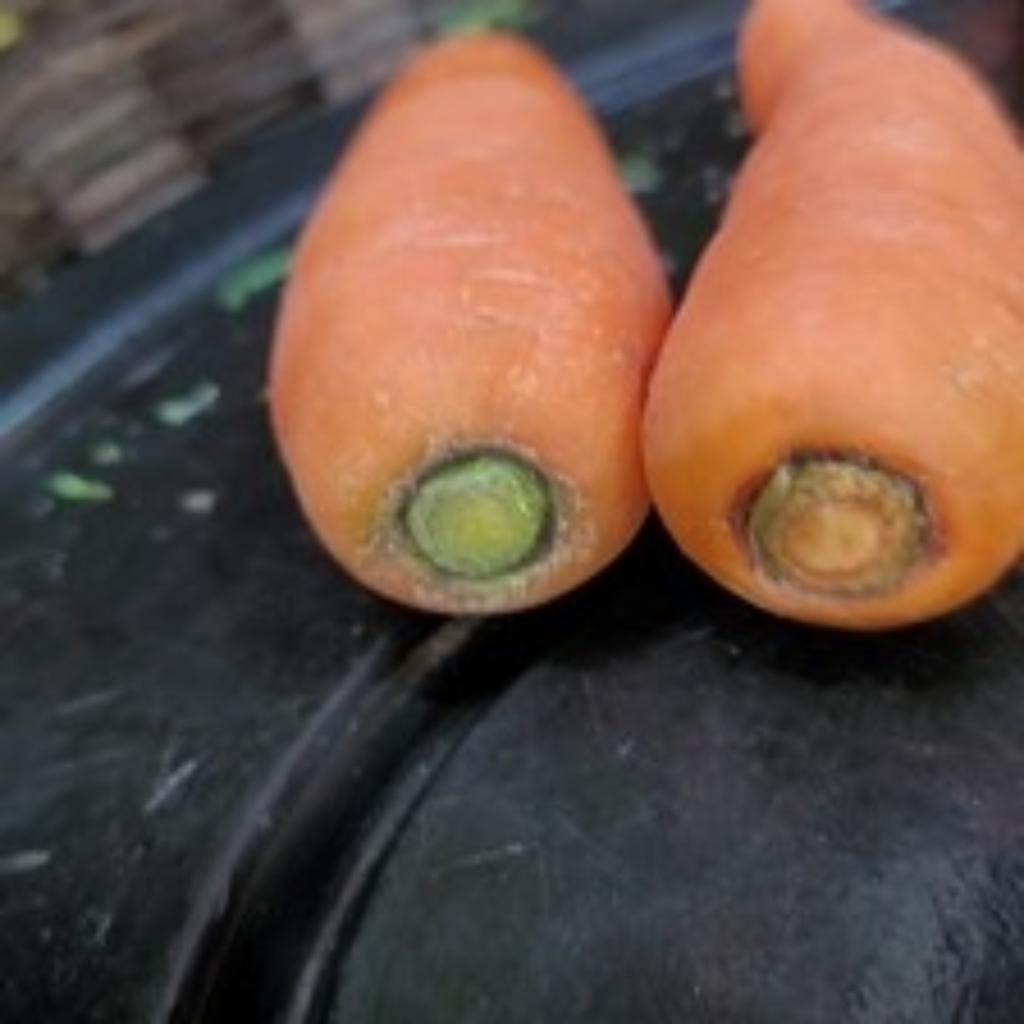carrot: (640, 0, 1015, 617), (265, 27, 663, 603)
